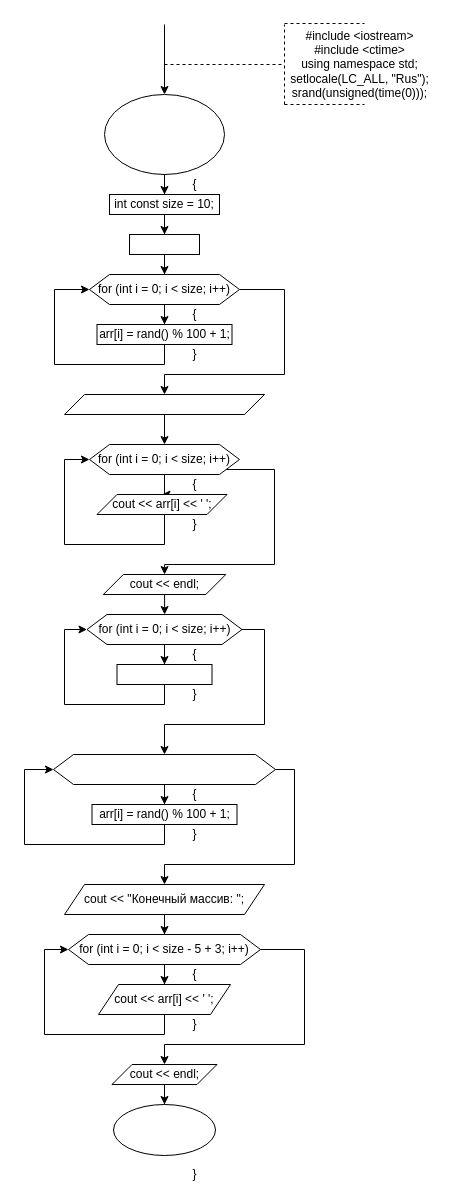
Some shapes in this 452 by 1202 pixel diagram are drawn without their labels. Here are the shapes that lost their labels. From the top down, the centre of each, then its label:
[164,134]: int main()
[164,244]: int arr[size];
[164,404]: cout << "Начальный массив: ";
[164,674]: arr[i] = arr[i + 5];
[164,769]: for (int i = size - 5; i < size - 5 + 3; i++)
[164,1130]: return 0;
